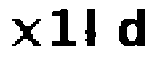1: (47, 7, 78, 50)
d: (114, 6, 148, 52)
l: (85, 6, 107, 49)
x: (10, 17, 42, 50)
